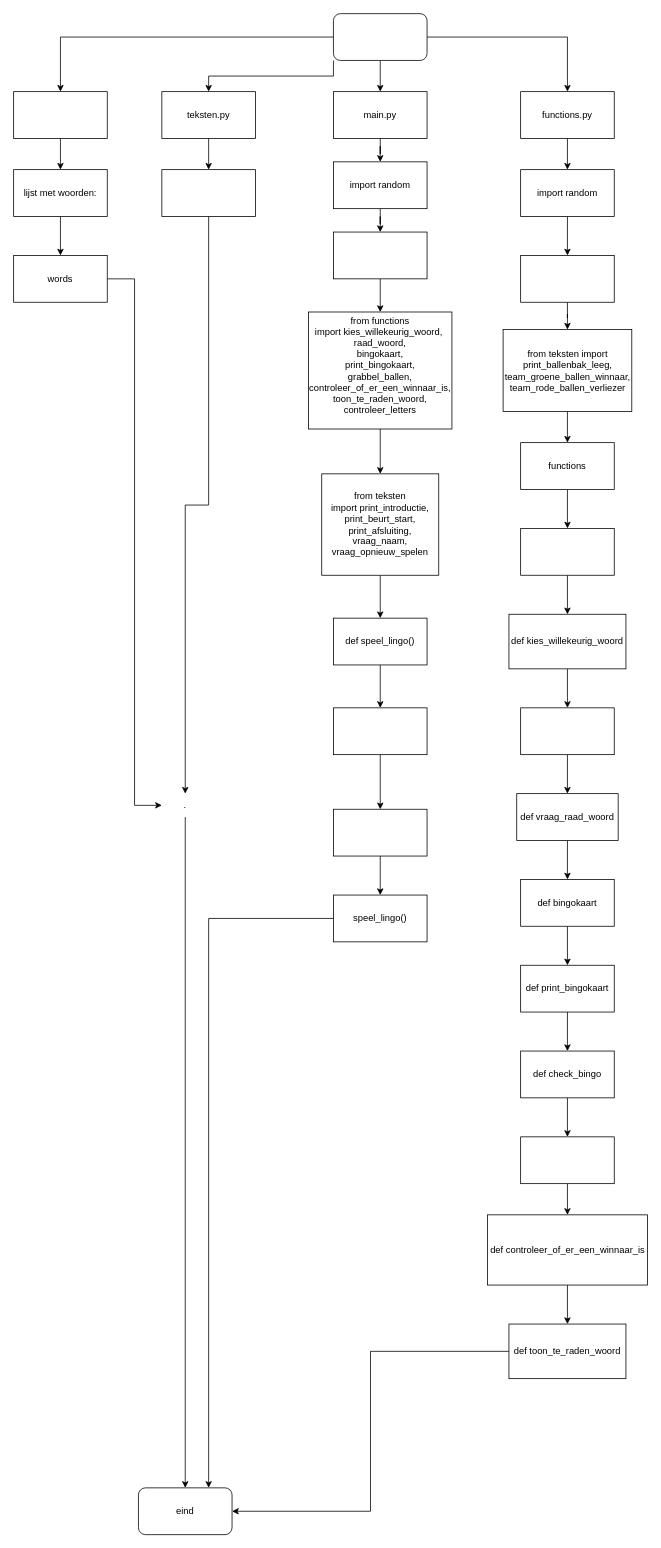
The diagram is 661 pixels wide and 1548 high, and some of its shapes have lost their labels. The centre of each missing label's shape, as x and y in pixels:
"def controleer_letters" belongs at point (567, 551).
"def grabbel_ballen" belongs at point (567, 1160).
"def raad_woord" belongs at point (567, 731).
"def speel_beurt" belongs at point (380, 731).
"from lingowords.py import words as woordenlijst" belongs at point (380, 255).
"from termcolor import colored" belongs at point (567, 278).
"functions met teksten" belongs at point (208, 192).
"lingowords.py" belongs at point (60, 114).
"start" belongs at point (380, 36).
"start het spel:" belongs at point (380, 832).
